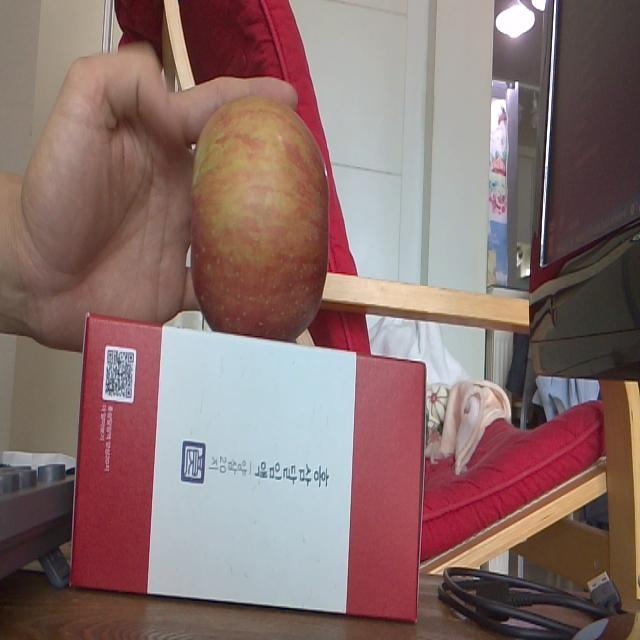apple: (190, 100, 334, 343)
